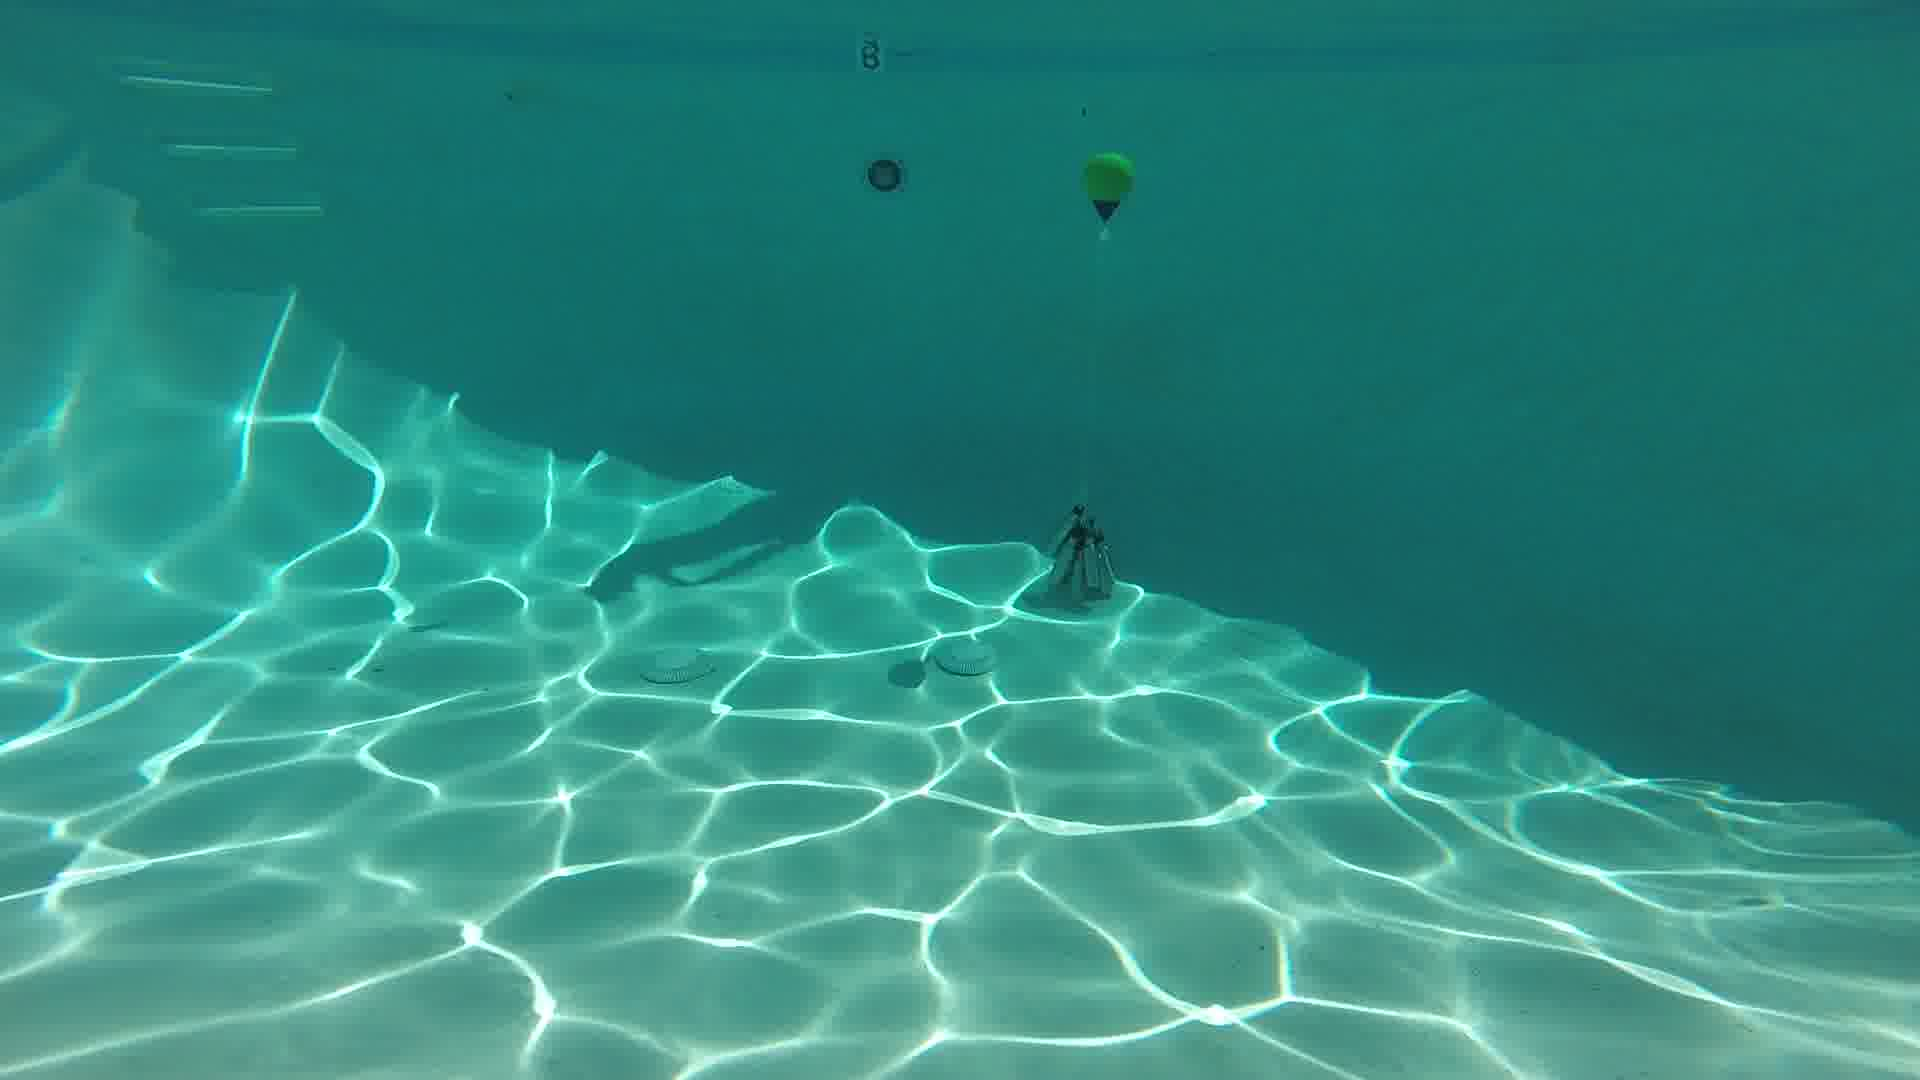yellow_buoy: (1083, 153, 1133, 222)
